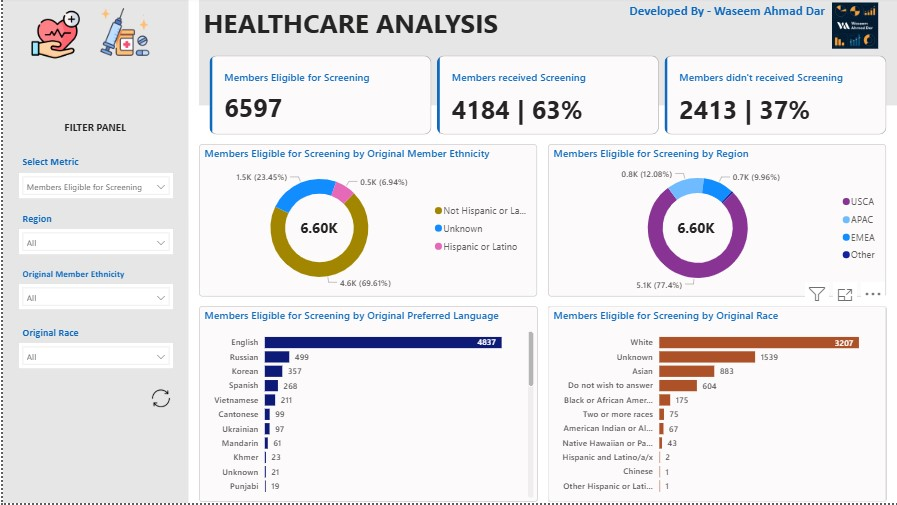

The dashboard page shown, as its layout file describes it:
{"tool":"powerbi","page":{"name":"HEALTHCARE ANALYSIS","canvas":[1280,720],"ordinal":0},"visuals":[{"type":"shape","box":[279.5,0,1000.7,152.5],"z":0},{"type":"cardVisual","fields":{"Data":["Data for healthcare analyst 2 a.Members Eligible for Screening","Data for healthcare analyst 2 a.Members received Screening","Data for healthcare analyst 2 a.Members didn't received Screening"]},"box":[290.3,75.5,979.3,123.3],"z":1000},{"type":"shape","box":[0,0,265.2,720.2],"z":2000},{"type":"textbox","box":[281.8,3.2,490.2,60.6],"z":3000},{"type":"textbox","box":[890,0,390,38.9],"z":4000},{"type":"donutChart","fields":{"Y":["Data for healthcare analyst 2 a.Members Eligible for Screening"],"Category":["Data for healthcare analyst 2 a.ORIG_MEM_ETHNICITY"]},"box":[279.5,206.9,483,217.8],"z":5000},{"type":"slicer","fields":{"Values":["Select Metric.Select Metric"]},"box":[23.4,248.8,220.1,36.2],"z":6000},{"type":"card","fields":{"Values":["Data for healthcare analyst 2 a.Members Eligible for Screening"]},"box":[405.4,309.8,90.8,36.3],"z":7000},{"type":"donutChart","fields":{"Y":["Data for healthcare analyst 2 a.Members Eligible for Screening"],"Category":["Data for healthcare analyst 2 a.Region"]},"box":[778.1,206.9,482.8,217.8],"z":8000},{"type":"card","fields":{"Values":["Data for healthcare analyst 2 a.Members Eligible for Screening"]},"box":[943.8,309.8,90.8,36.3],"z":9000},{"type":"clusteredBarChart","fields":{"Y":["Data for healthcare analyst 2 a.Members Eligible for Screening"],"Category":["Data for healthcare analyst 2 a.Original Preferred Language"]},"box":[279.5,439.3,484,280],"z":10000},{"type":"clusteredBarChart","fields":{"Y":["Data for healthcare analyst 2 a.Members Eligible for Screening"],"Category":["Data for healthcare analyst 2 a.Original Race"]},"box":[778.3,439.1,483.8,279.6],"z":11000},{"type":"image","box":[36.3,10.9,78.7,78.7],"z":12000},{"type":"image","box":[131.9,6.1,84.7,83.5],"z":13000},{"type":"textbox","box":[23.4,218,117,30.8],"z":14000},{"type":"slicer","fields":{"Values":["Data for healthcare analyst 2 a.Region"]},"box":[23.4,328.6,220.1,36.2],"z":15000},{"type":"textbox","box":[23.4,299.9,117,31.9],"z":16000},{"type":"textbox","box":[72.3,168,118,30.8],"z":17000},{"type":"slicer","fields":{"Values":["Data for healthcare analyst 2 a.Original Member Ethnicity"]},"box":[23.4,407.2,220.1,36.2],"z":18000},{"type":"slicer","fields":{"Values":["Data for healthcare analyst 2 a.Original Race"]},"box":[23.4,491.2,220.1,36.2],"z":19000},{"type":"textbox","box":[23,378.7,220.2,31.5],"z":20000},{"type":"textbox","box":[23,462.2,116.2,31.5],"z":21000},{"type":"image","box":[206.9,549.5,37.3,40.7],"z":22000},{"type":"image","box":[1154.4,0,125.6,75.6],"z":22001}]}

Visuals, with their boxes in screenshot pixels (x1, y1, x2, y2), scaled from the page's 1280x720 canvas onto the 897x505 screenshot:
shape: Rect(196, 0, 896, 107)
cardVisual - Data for healthcare analyst 2 a.Members Eligible for Screening x Data for healthcare analyst 2 a.Members received Screening: Rect(203, 53, 890, 139)
shape: Rect(0, 0, 186, 504)
textbox: Rect(197, 2, 541, 45)
textbox: Rect(624, 0, 896, 27)
donutChart - Data for healthcare analyst 2 a.Members Eligible for Screening x Data for healthcare analyst 2 a.ORIG_MEM_ETHNICITY: Rect(196, 145, 534, 298)
slicer - Select Metric.Select Metric: Rect(16, 175, 171, 200)
card - Data for healthcare analyst 2 a.Members Eligible for Screening: Rect(284, 217, 348, 243)
donutChart - Data for healthcare analyst 2 a.Members Eligible for Screening x Data for healthcare analyst 2 a.Region: Rect(545, 145, 884, 298)
card - Data for healthcare analyst 2 a.Members Eligible for Screening: Rect(661, 217, 725, 243)
clusteredBarChart - Data for healthcare analyst 2 a.Members Eligible for Screening x Data for healthcare analyst 2 a.Original Preferred Language: Rect(196, 308, 535, 504)
clusteredBarChart - Data for healthcare analyst 2 a.Members Eligible for Screening x Data for healthcare analyst 2 a.Original Race: Rect(545, 308, 884, 504)
image: Rect(25, 8, 81, 63)
image: Rect(92, 4, 152, 63)
textbox: Rect(16, 153, 98, 175)
slicer - Data for healthcare analyst 2 a.Region: Rect(16, 230, 171, 256)
textbox: Rect(16, 210, 98, 233)
textbox: Rect(51, 118, 133, 139)
slicer - Data for healthcare analyst 2 a.Original Member Ethnicity: Rect(16, 286, 171, 311)
slicer - Data for healthcare analyst 2 a.Original Race: Rect(16, 345, 171, 370)
textbox: Rect(16, 266, 170, 288)
textbox: Rect(16, 324, 98, 346)
image: Rect(145, 385, 171, 414)
image: Rect(809, 0, 896, 53)
